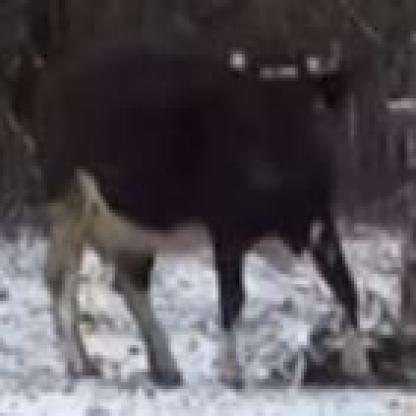cow: (37, 46, 355, 390)
